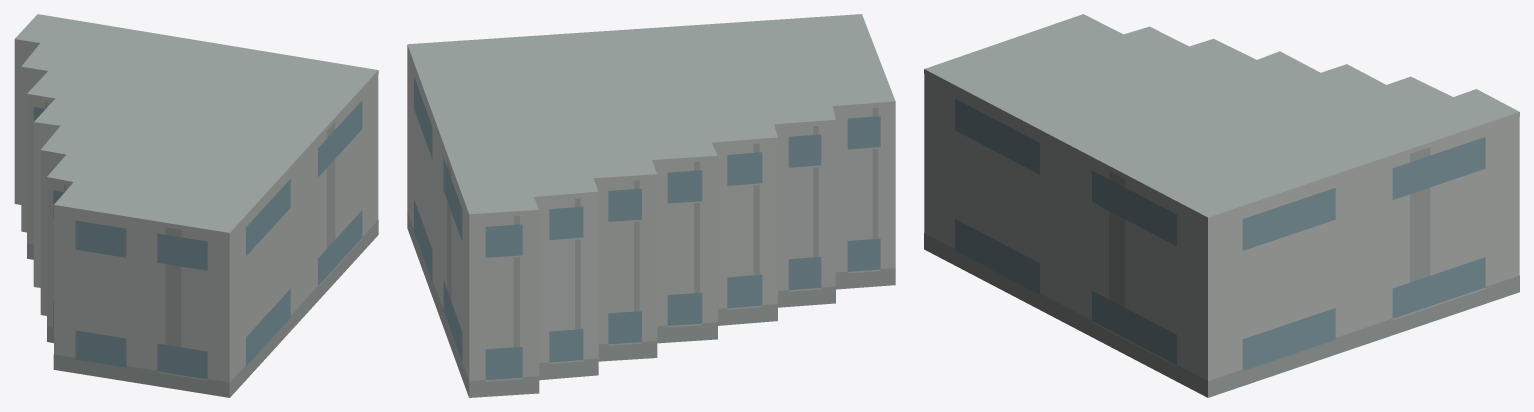
File: survey-upis-32993128.glb
3 views of the same model, side by side, from view 1: azimuth 30°, elevation 25°; view 2: azimuth 150°, elevation 25°; view 3: azimuth 270°, elevation 25° (orthographic). The views are drawn at different scales.
Visible parts, largest first — view 1: survey-upis-32993128.tmp; view 2: survey-upis-32993128.tmp; view 3: survey-upis-32993128.tmp.
Part boxes in pixels (x1,y1,x2,y2): survey-upis-32993128.tmp: [14, 14, 378, 397]; survey-upis-32993128.tmp: [407, 14, 895, 397]; survey-upis-32993128.tmp: [924, 14, 1519, 397].
Size of the model in its own units: 22.16 by 9.15 by 27.4.
